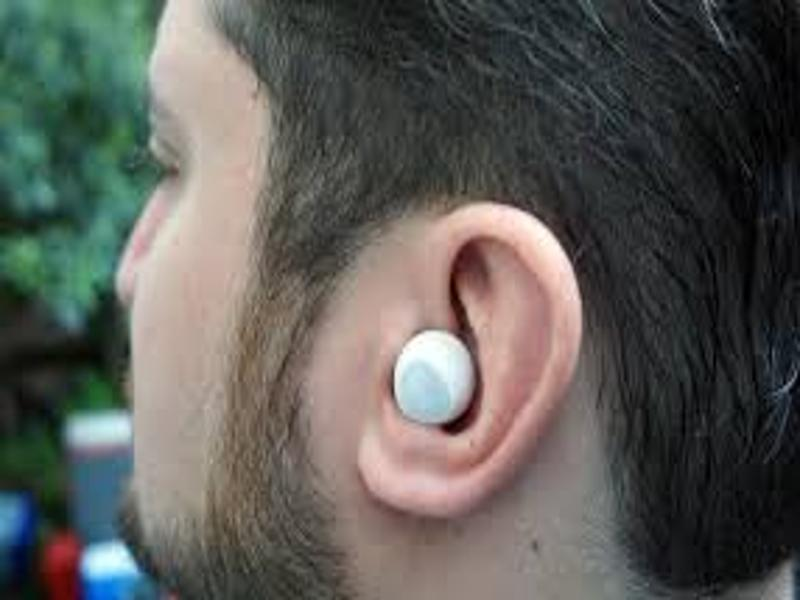headphone: (392, 329, 478, 426)
